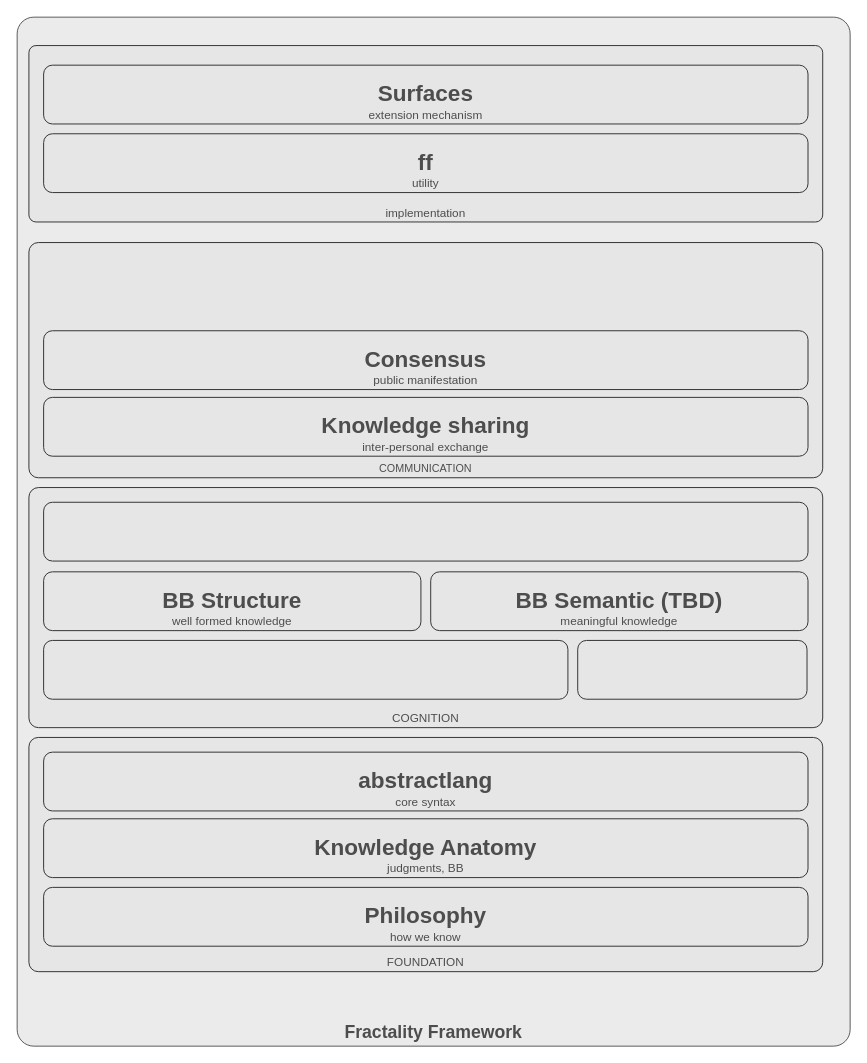
This 867x1063 diagram has some shape labels left out. The shapes that lost their labels are listed below. From the top down, each one's centre as x and y in pixels, then its label:
At point 425,531: "abstractlang queries".
At point 305,669: "Cognitive acts judgments operations".
At point 692,669: "Concepts mutations editing & versioning".
